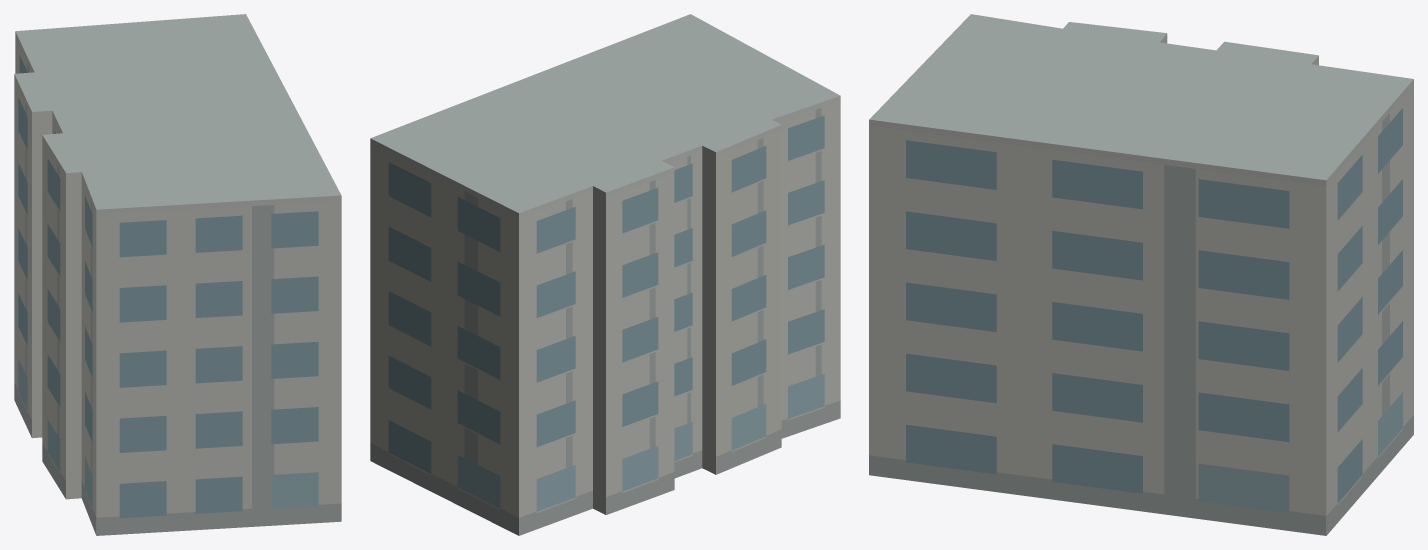
Rendered from survey-upis-32947205.glb.
The picture shows the model from 3 angles, left to right: view 1: azimuth 30°, elevation 25°; view 2: azimuth 150°, elevation 25°; view 3: azimuth 270°, elevation 25°; orthographic projection. The views are drawn at different scales.
Parts seen in each view (by area): view 1: survey-upis-32947205.tmp; view 2: survey-upis-32947205.tmp; view 3: survey-upis-32947205.tmp.
Boxes of the visible parts, box(x1,y1,x2,y2) form: survey-upis-32947205.tmp: box(14, 14, 341, 535); survey-upis-32947205.tmp: box(370, 14, 840, 535); survey-upis-32947205.tmp: box(869, 14, 1413, 535).
Size of the model in its own units: 14.45 by 14.4 by 20.
